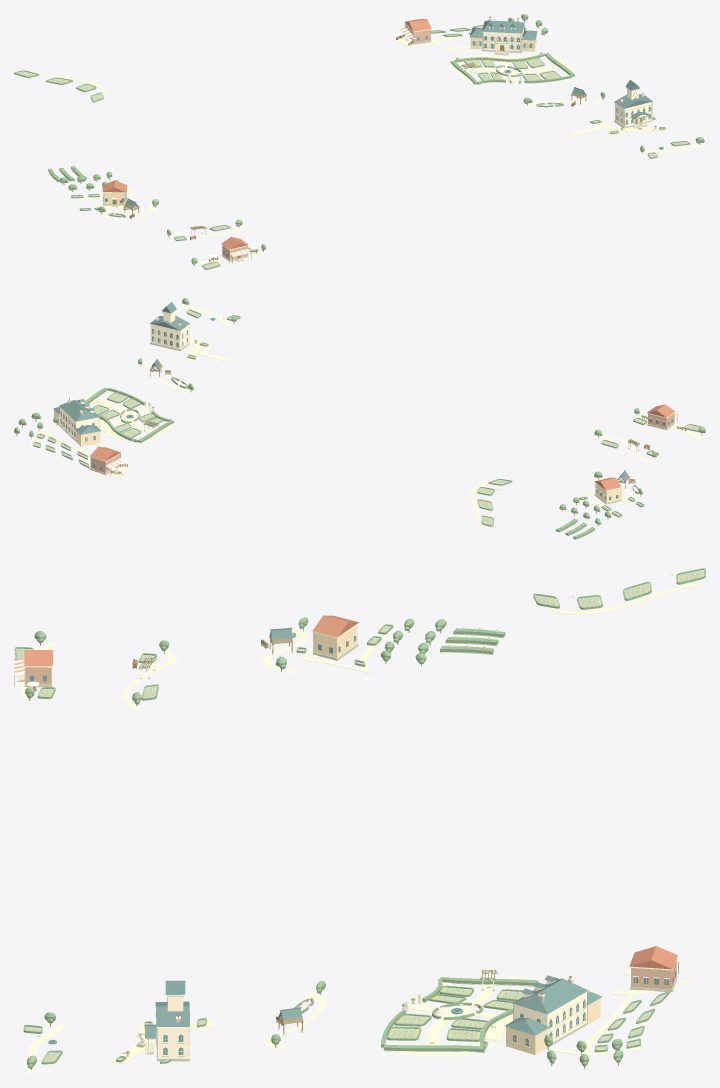
File: civic-districts.glb
3 views of the same model, one above another, from view 1: azimuth 30°, elevation 25°; view 2: azimuth 150°, elevation 25°; view 3: azimuth 270°, elevation 25° (orthographic). The views are drawn at different scales.
Visible parts, largest first — view 1: SM_District_Leaf, SM_District_Path, SM_District_Cream, SM_District_Slate, SM_District_Stone, SM_District_Willow, SM_District_Roof, SM_District_Meadow, SM_District_Wood, SM_District_Rose, SM_District_Plaster, SM_District_Glass; view 2: SM_District_Leaf, SM_District_Path, SM_District_Cream, SM_District_Slate, SM_District_Willow, SM_District_Stone, SM_District_Meadow, SM_District_Roof, SM_District_Plaster, SM_District_Rose, SM_District_Wood, SM_District_Glass; view 3: SM_District_Leaf, SM_District_Path, SM_District_Cream, SM_District_Slate, SM_District_Willow, SM_District_Stone, SM_District_Meadow, SM_District_Roof, SM_District_Plaster, SM_District_Rose, SM_District_Glass, SM_District_Flowers (+1 smaller).
Boxes of the visible parts, box(x1,y1,x2,y2) form: SM_District_Leaf: box(14, 14, 704, 269); SM_District_Path: box(29, 36, 704, 264); SM_District_Cream: box(30, 17, 703, 264); SM_District_Slate: box(125, 20, 652, 208); SM_District_Stone: box(48, 19, 656, 261); SM_District_Willow: box(17, 26, 685, 268); SM_District_Roof: box(102, 16, 643, 249); SM_District_Meadow: box(16, 27, 688, 268); SM_District_Wood: box(51, 20, 700, 266); SM_District_Rose: box(28, 24, 658, 261); SM_District_Plaster: box(104, 35, 536, 204); SM_District_Glass: box(103, 26, 663, 256); SM_District_Leaf: box(14, 298, 705, 539); SM_District_Path: box(30, 304, 701, 522); SM_District_Cream: box(59, 308, 698, 507); SM_District_Slate: box(53, 302, 628, 481); SM_District_Willow: box(34, 311, 698, 535); SM_District_Stone: box(59, 310, 674, 539); SM_District_Meadow: box(34, 310, 699, 525); SM_District_Roof: box(69, 317, 674, 490); SM_District_Plaster: box(54, 410, 620, 502); SM_District_Rose: box(90, 317, 677, 518); SM_District_Wood: box(16, 304, 702, 530); SM_District_Glass: box(60, 317, 673, 500); SM_District_Leaf: box(14, 568, 705, 1068); SM_District_Path: box(22, 581, 699, 1073); SM_District_Cream: box(14, 574, 695, 1073); SM_District_Slate: box(144, 627, 602, 1038); SM_District_Willow: box(16, 571, 702, 1061); SM_District_Stone: box(17, 632, 677, 1061); SM_District_Meadow: box(16, 570, 704, 1064); SM_District_Roof: box(24, 615, 677, 1017); SM_District_Plaster: box(314, 625, 600, 1054); SM_District_Rose: box(14, 573, 677, 1053); SM_District_Glass: box(30, 635, 676, 1054); SM_District_Flowers: box(17, 573, 700, 1061).
Bounding box in the file's own units: 207 × 18.52 × 134.
